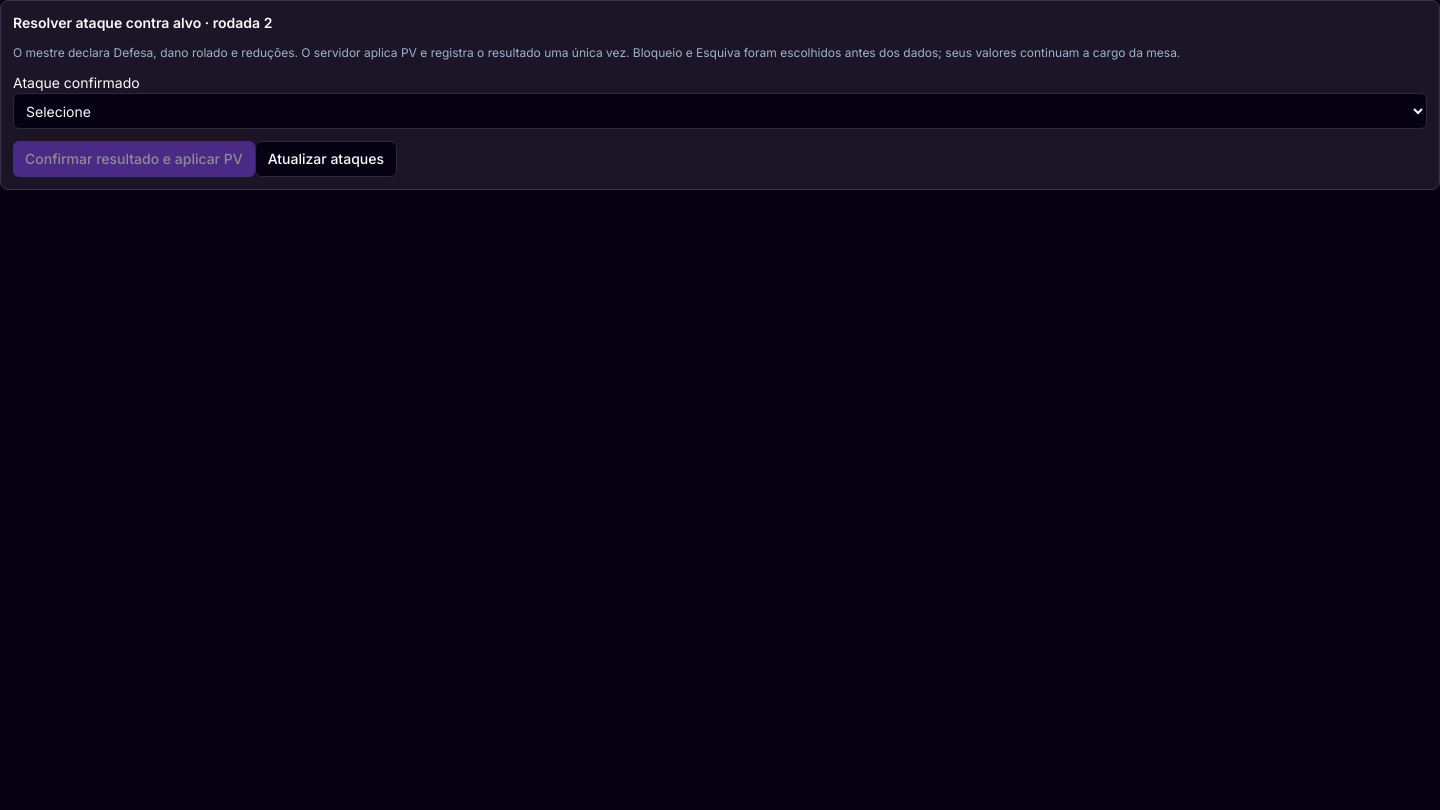
resolução do ataque contra alvo v2 › limpa Defesa, dano e reduções ao trocar de ataque e alvo
Later steps or results of the test are not shown.
Step 1. Select "Atacante → Alvo A · teste 17" in the dropdown named "Ataque para resolver" → (720, 111), box [13, 93, 1427, 129]
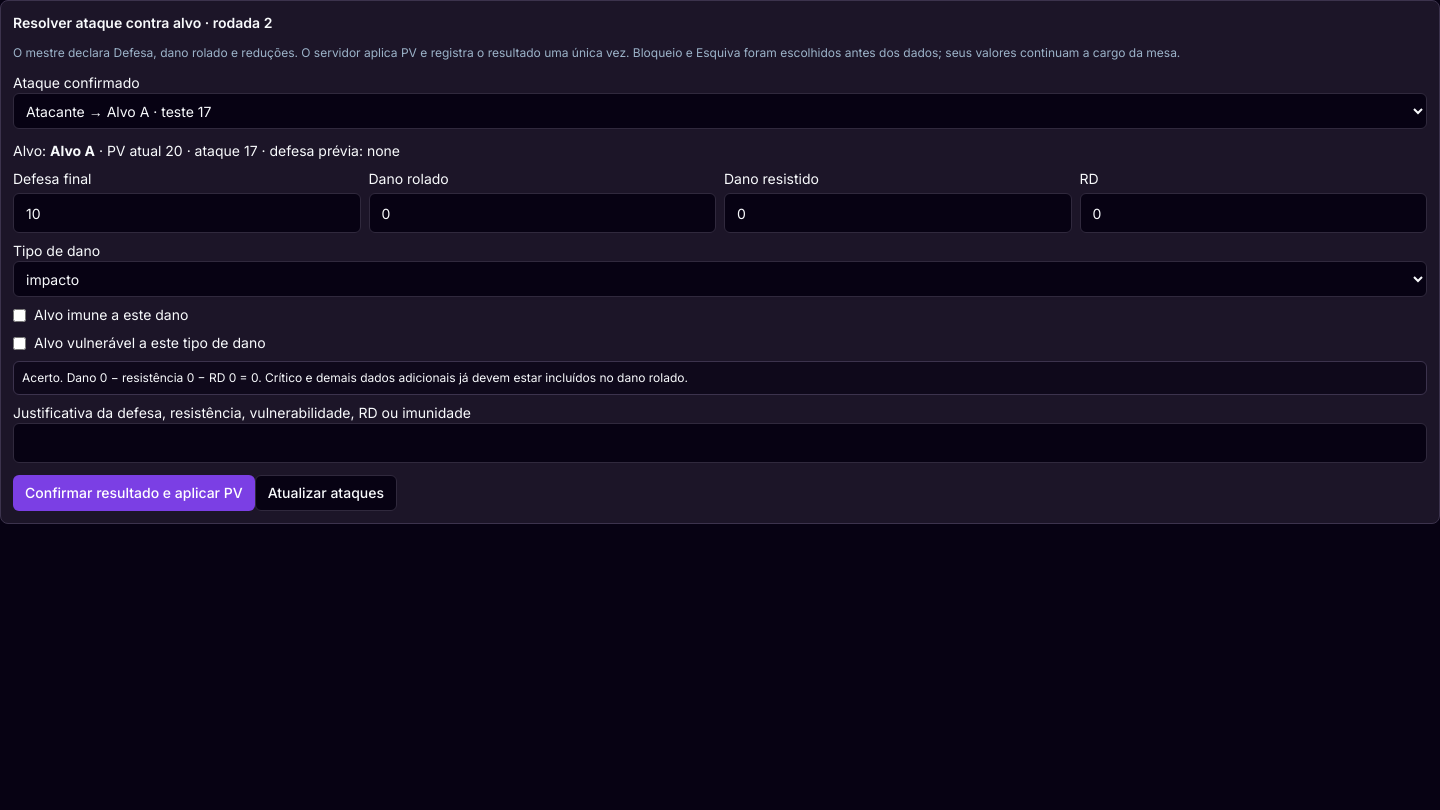
Step 2. Replace the text in the number field labelled "Defesa final" with "19" → (187, 213), box [13, 193, 360, 233]
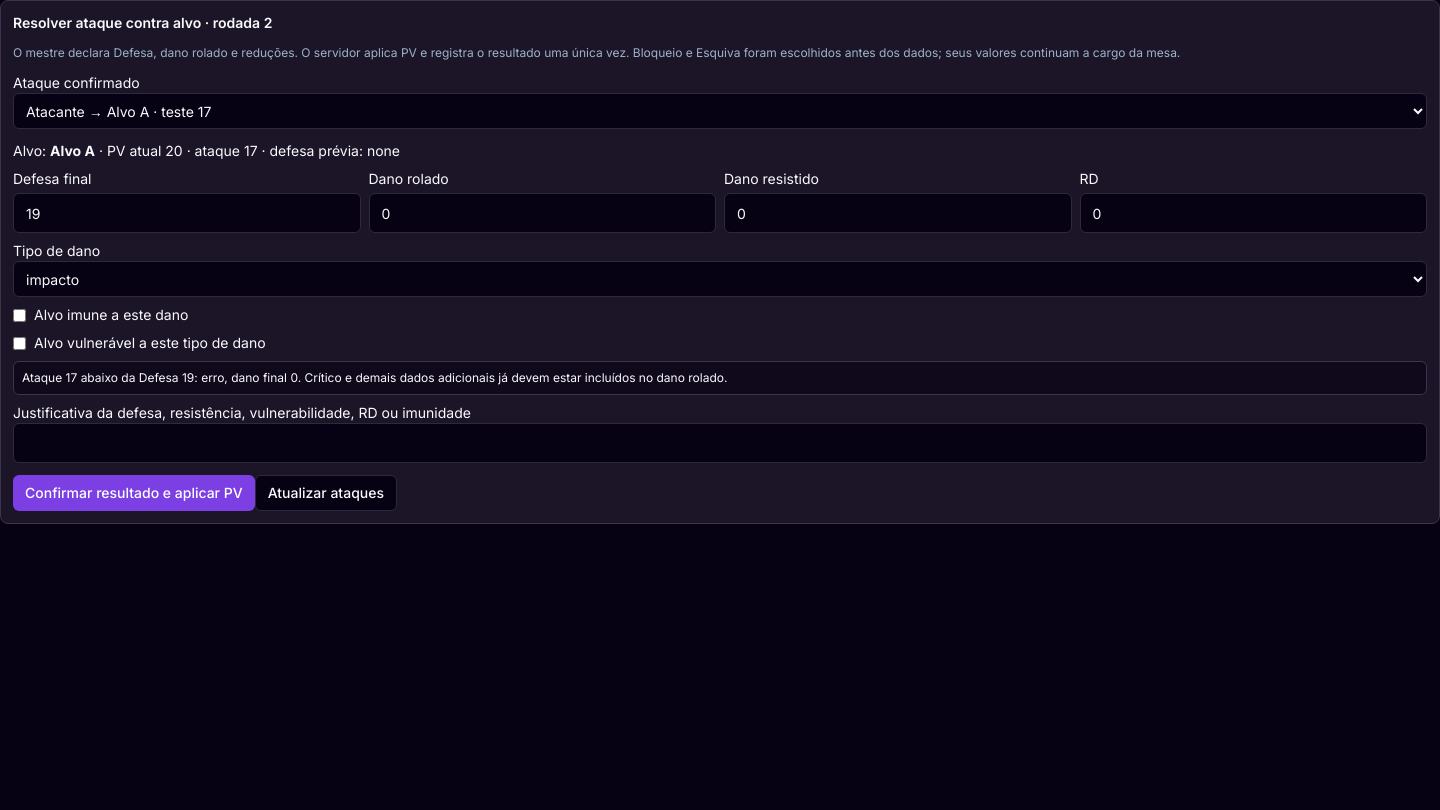
Step 3. Replace the text in the number field labelled "Dano rolado" with "12" → (542, 213), box [368, 193, 716, 233]
Step 4. Replace the text in the number field labelled "RD" with "4" → (1253, 213), box [1080, 193, 1427, 233]
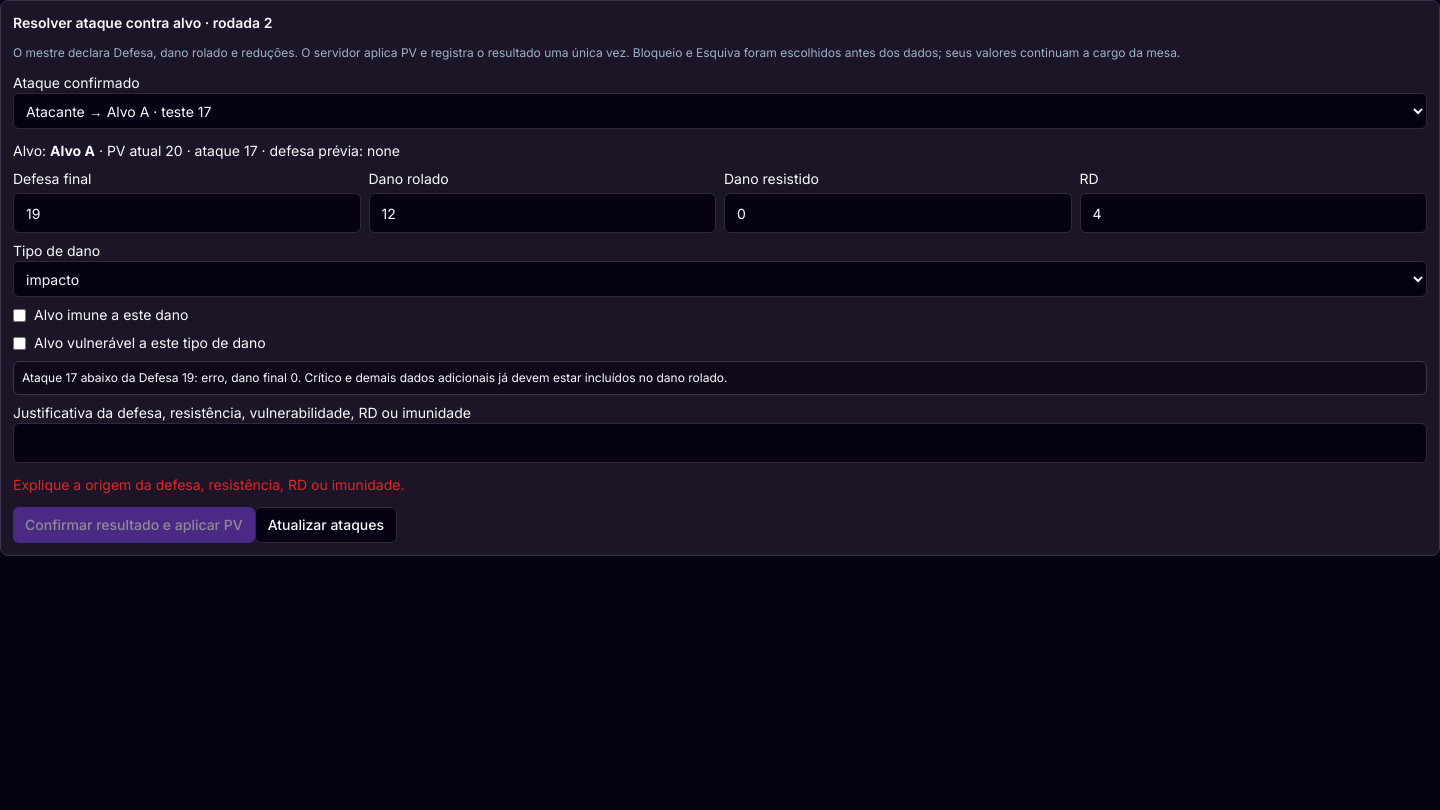
Step 5. Select "fogo" in the dropdown labelled "Tipo de dano" → (720, 279), box [13, 261, 1427, 297]
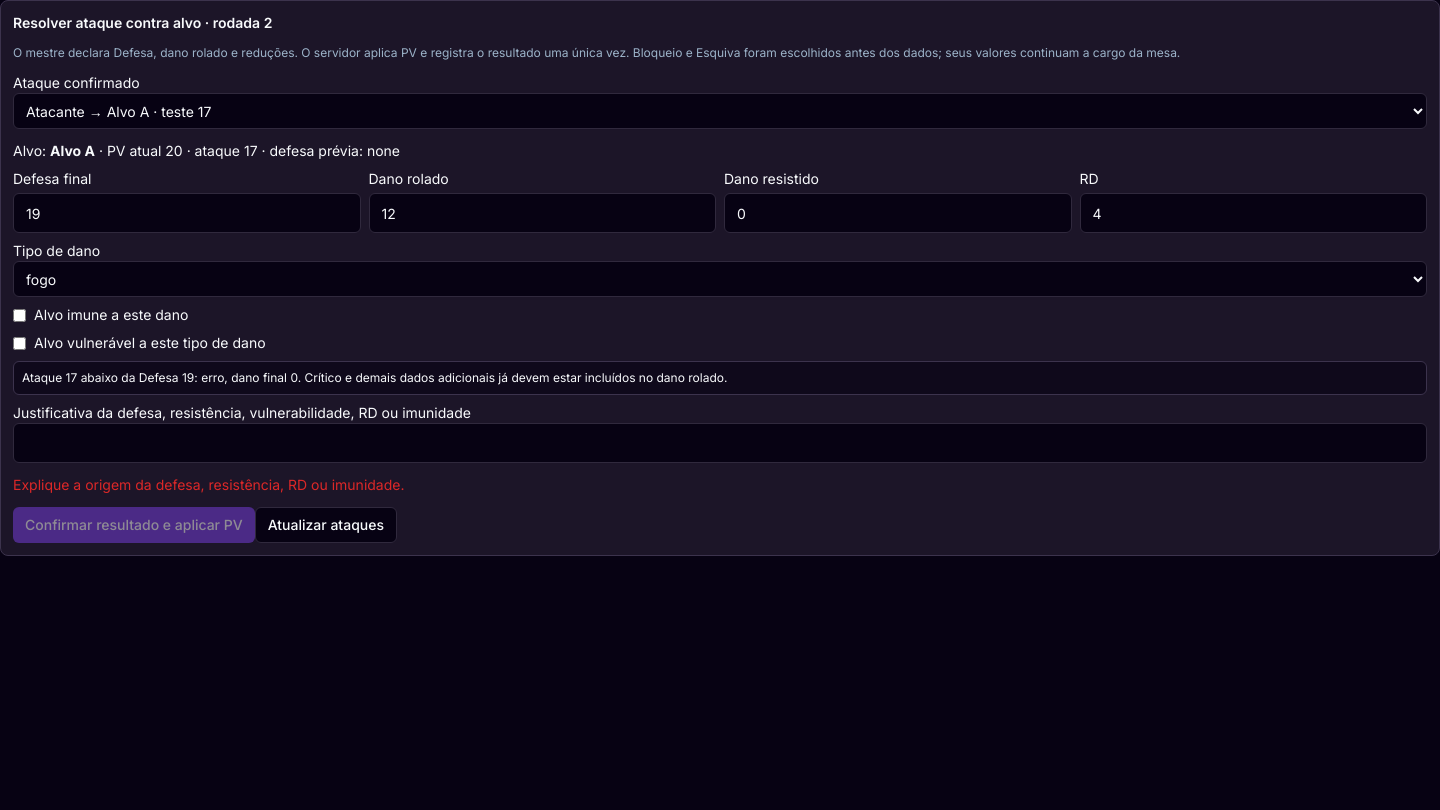
Step 6. Type "Armadura" into the field labelled "Justificativa" → (720, 443), box [13, 423, 1427, 463]
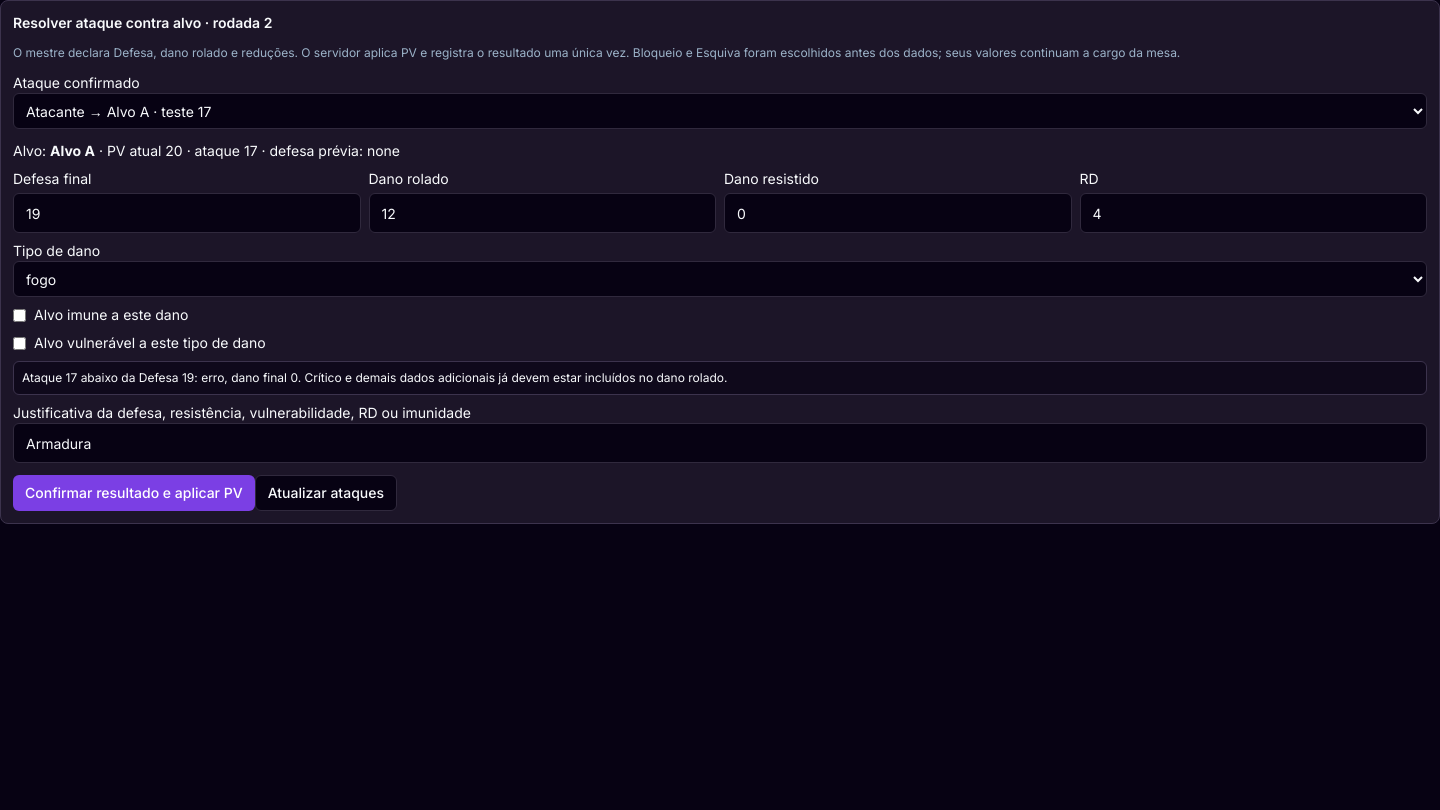
Expected: the text named "Prévia do cálculo de dano" shows "Ataque 17 abaixo da Defesa 19: erro, dano final 0", [22, 370, 301, 385]
Step 7. Select "Atacante → Alvo B · teste 22" in the dropdown named "Ataque para resolver" → (720, 111), box [13, 93, 1427, 129]
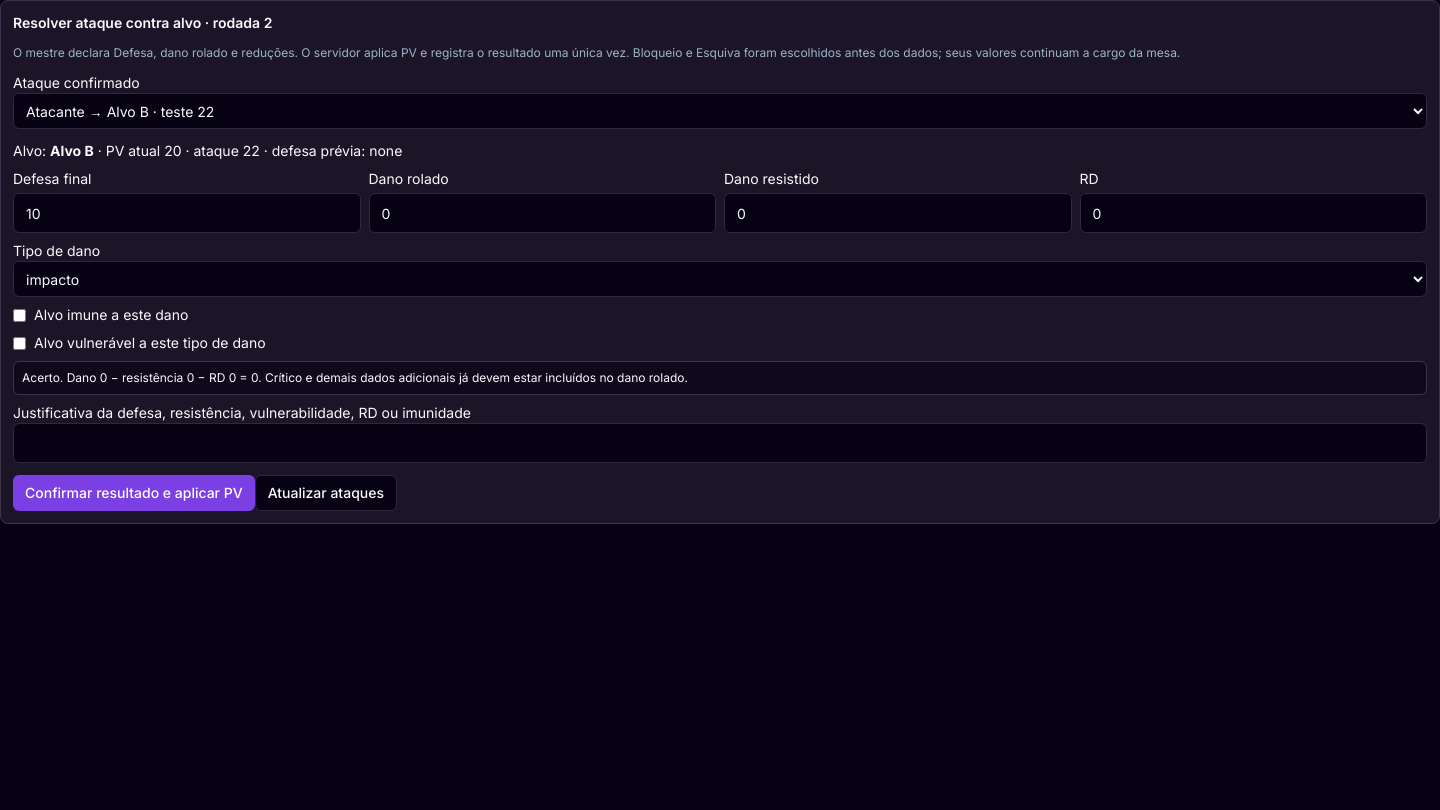
Expected: the number field labelled "Defesa final" holds "10", [13, 193, 360, 233]
Expected: the number field labelled "Dano rolado" holds "0", [368, 193, 716, 233]
Expected: the number field labelled "RD" holds "0", [1080, 193, 1427, 233]
